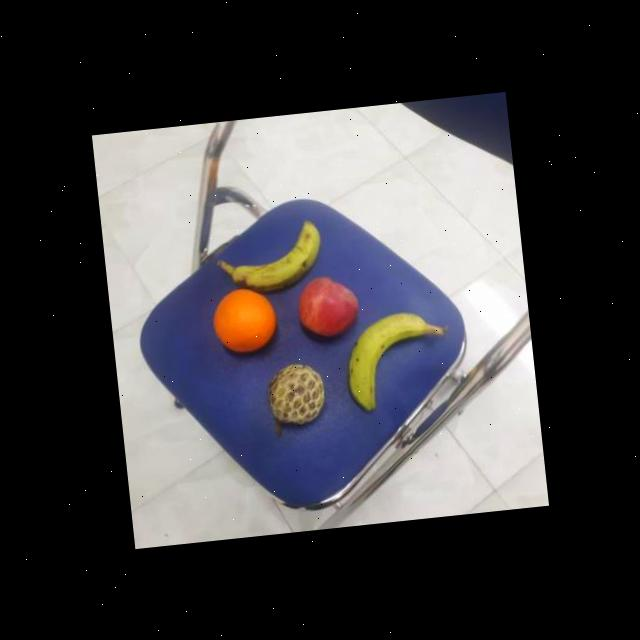Sakya fruit: (261, 358, 332, 428)
apple: (290, 270, 362, 342)
banana: (338, 308, 437, 412), (220, 217, 328, 296)
orange: (206, 284, 282, 358)
